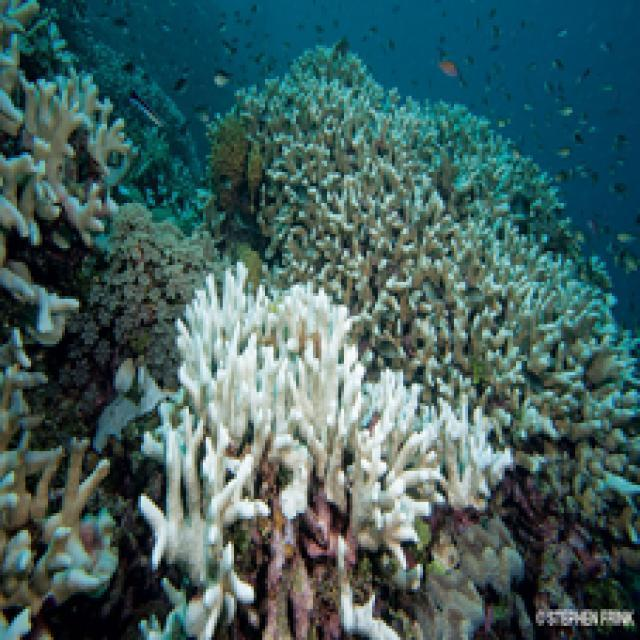Bleached: (400, 102, 602, 323), (180, 274, 356, 479), (266, 79, 419, 290), (1, 362, 108, 640), (352, 370, 512, 543), (505, 286, 636, 492), (359, 261, 551, 392), (16, 79, 137, 244), (142, 429, 258, 574), (145, 554, 254, 640), (1, 1, 29, 252), (1, 257, 68, 347), (338, 578, 405, 640), (290, 46, 374, 84)
